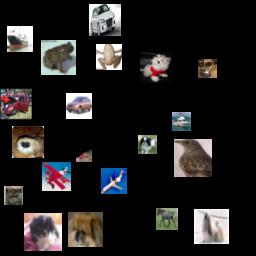airplane: (42, 162, 71, 191), (101, 168, 127, 194)
automobile: (89, 4, 121, 36), (0, 88, 32, 120), (66, 93, 92, 119), (198, 59, 217, 78)
bird: (174, 139, 212, 177)
cat: (4, 186, 23, 205)
dog: (24, 213, 62, 251), (194, 209, 229, 244), (68, 212, 103, 247), (140, 51, 172, 83), (12, 126, 44, 158), (138, 135, 157, 154)
frog: (41, 40, 76, 75), (96, 44, 122, 70), (76, 146, 92, 162)
ship: (7, 26, 33, 52), (172, 112, 191, 131)
